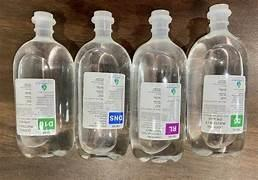Iv_Bottle: (187, 4, 246, 155), (13, 11, 73, 156), (130, 10, 185, 162), (75, 10, 130, 159)
